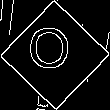O_S: (33, 29, 77, 81)
